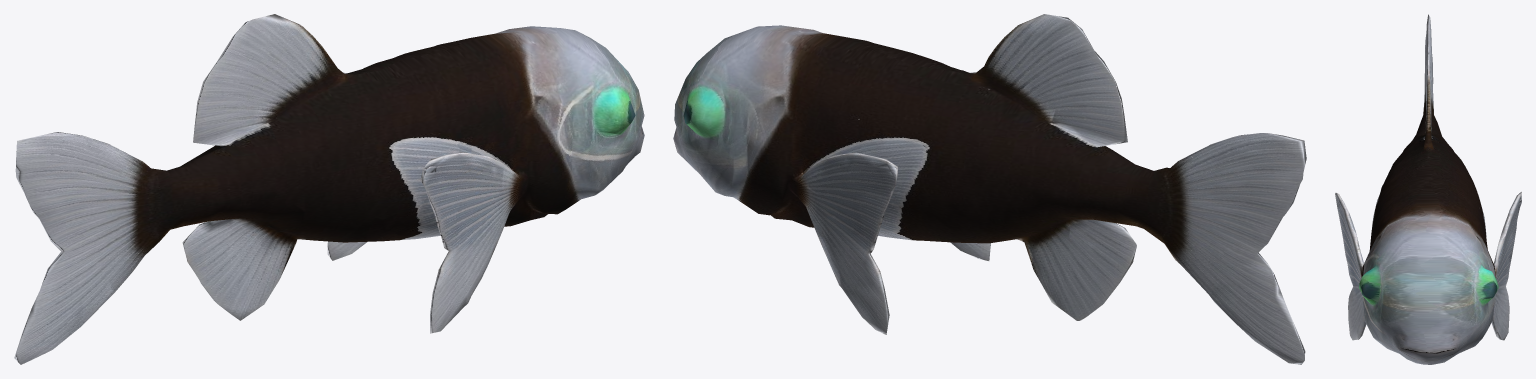
File: barreleye.glb
3 renders of one model, left to right at view 1: azimuth 30°, elevation 25°; view 2: azimuth 150°, elevation 25°; view 3: azimuth 270°, elevation 25°, orthographic. The views are drawn at different scales.
Parts seen in each view (by area): view 1: barreleye; view 2: barreleye; view 3: barreleye.
Boxes of the visible parts, <box> form: barreleye: <box>14,14,644,364</box>; barreleye: <box>673,14,1306,364</box>; barreleye: <box>1335,14,1521,364</box>.
Size of the model in its own units: 2 by 0.9514 by 0.6802.
1 material, 1 textured.
